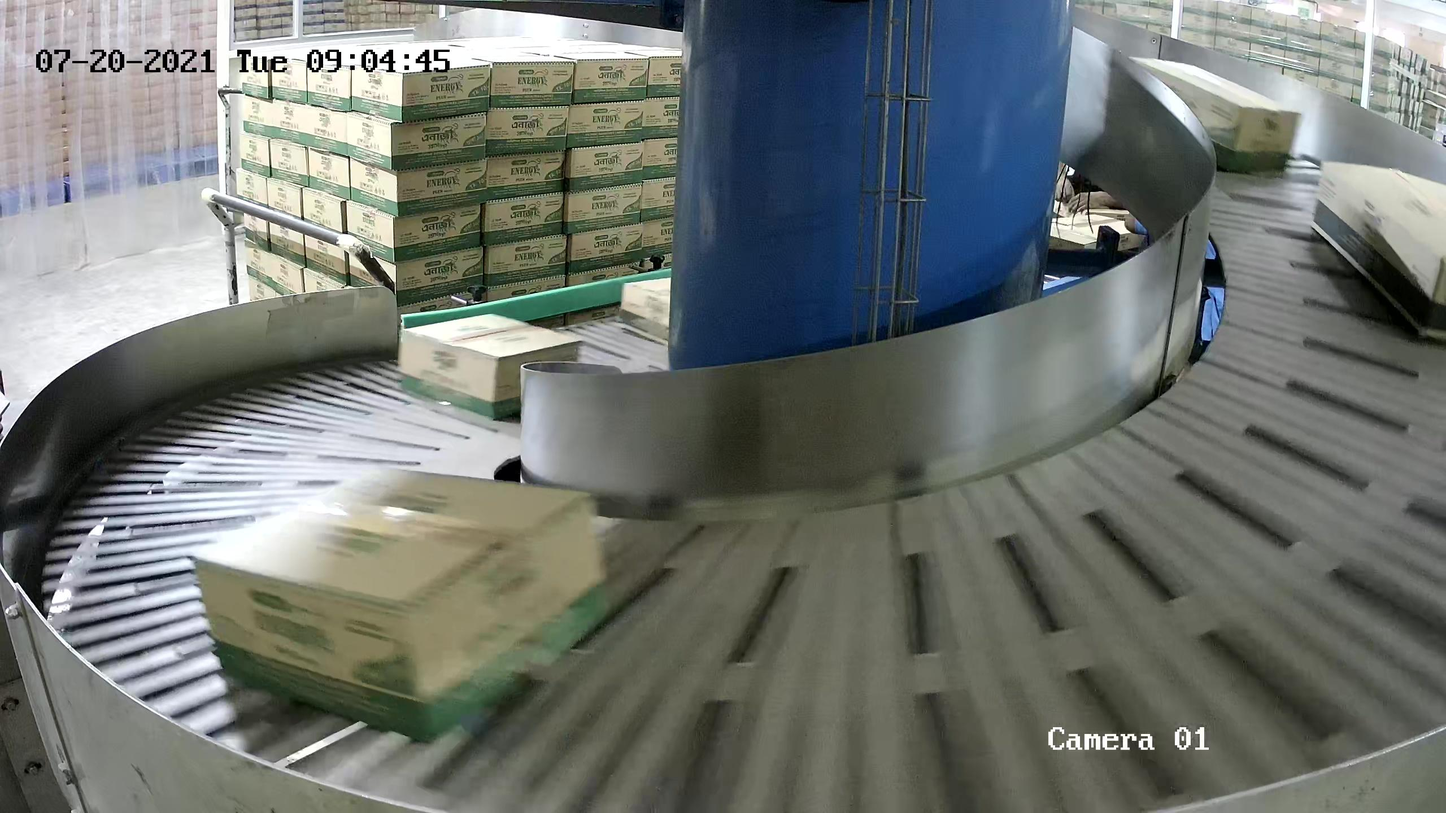Box: (192, 460, 614, 744), (1309, 160, 1446, 339), (1125, 55, 1303, 175), (397, 313, 584, 421), (617, 277, 671, 349)
